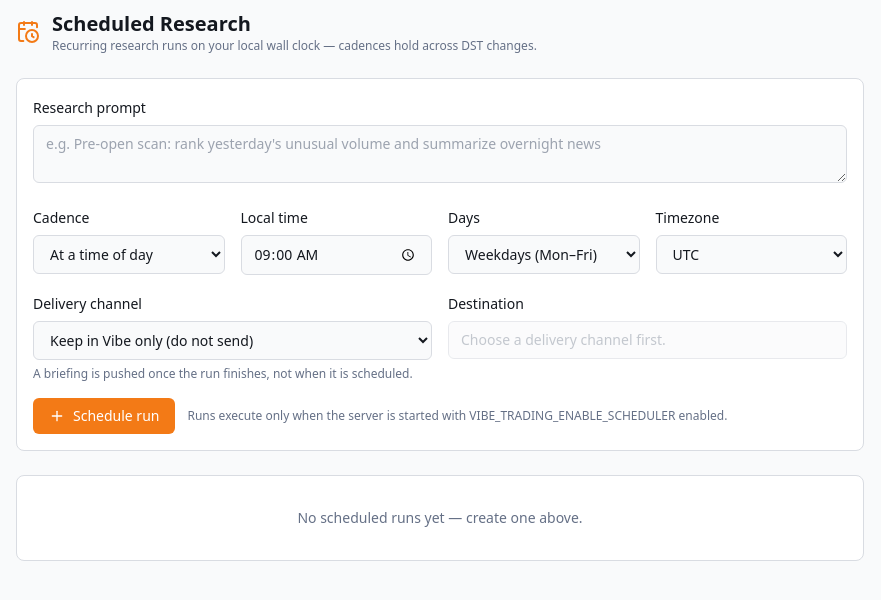
it: Scheduled page › keeps manual target entry and can fill it from a known Telegram destination
Expected: the text "No scheduled runs yet — create one above." is shown, [297,508,583,527]
Select "Telegram" in the dropdown labelled "Delivery channel". click: (232,340)
box: [33,321,432,360]
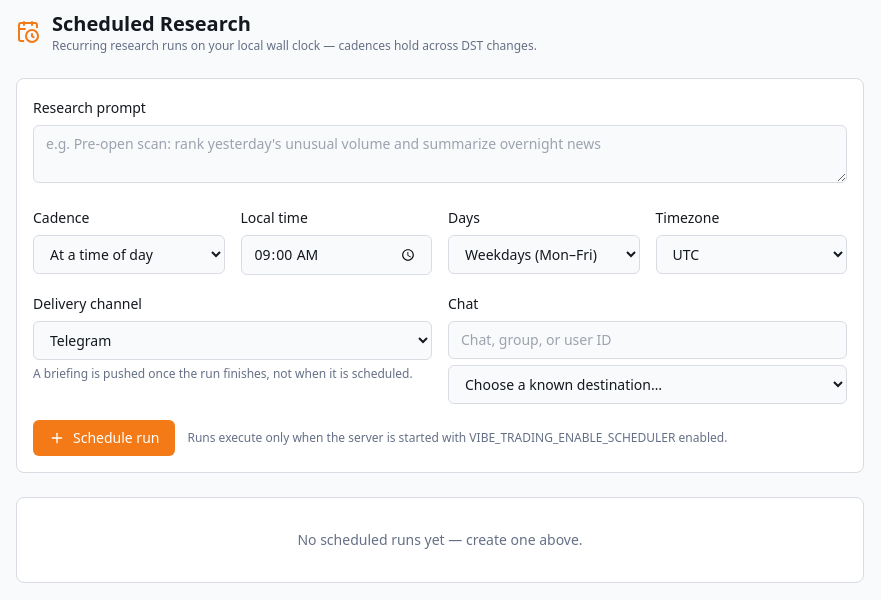
Expected: the field labelled "Chat" is empty, [448,321,847,359]
Expected: the field labelled "Chat" has attribute placeholder="Chat, group, or user ID", [448,321,847,359]
Select "Private chat · 138••••67" in the dropdown named "Known destination". click: (648,384)
box: [448,365,847,404]
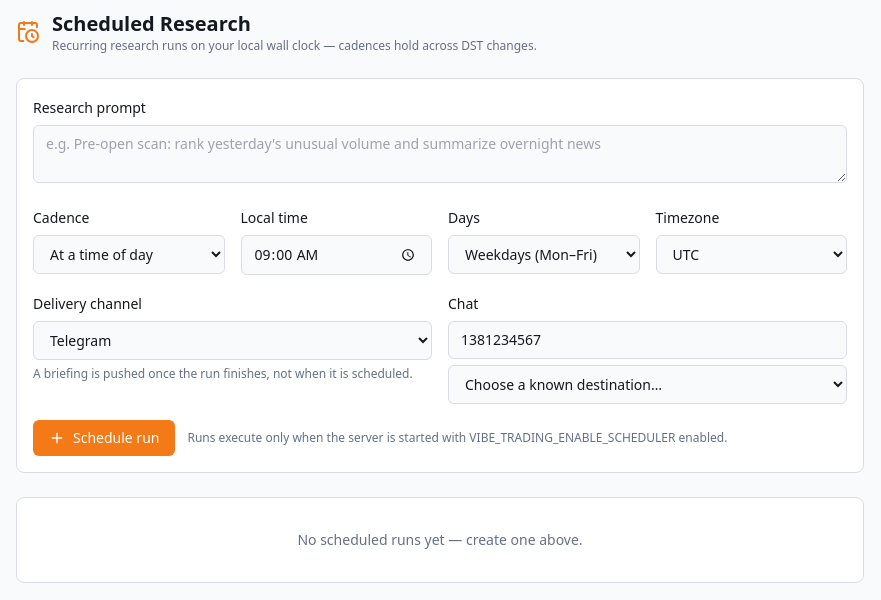
Expected: the field labelled "Chat" holds "1381234567", [448,321,847,359]
